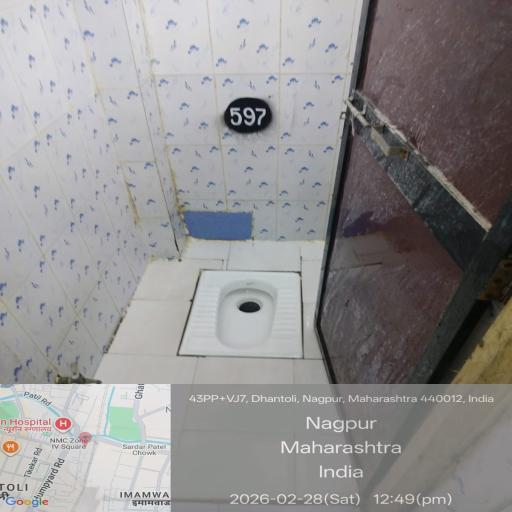clean_floor: (0, 6, 385, 246), (12, 346, 480, 512)
clean_indian: (168, 262, 333, 358)
